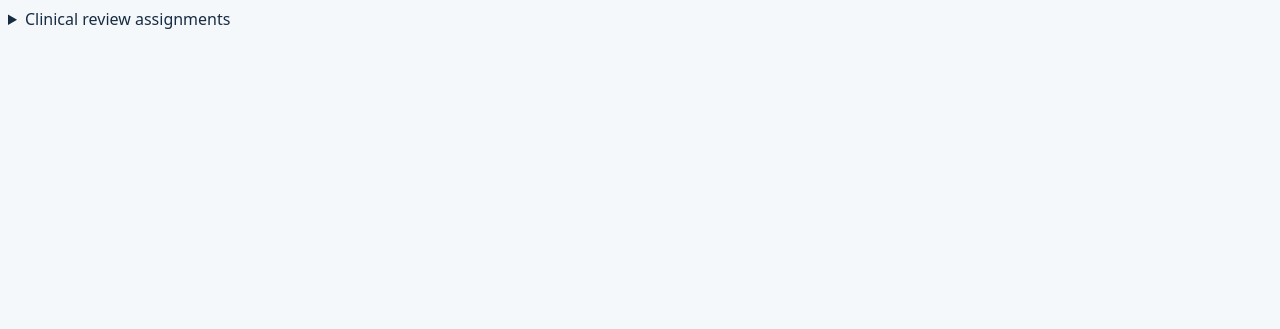
Test case: assigns a doctor and displays the recommendation state
Click the heading "Clinical review assignments". click: x=128, y=19
box: [25, 8, 230, 30]
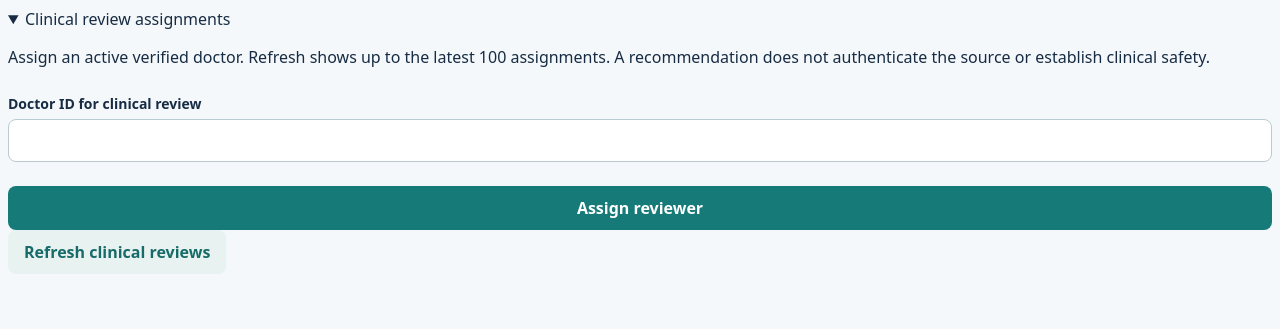
Type "00000000-0000-4000-8000-000000000001" into the field labelled "Doctor ID for clinical review". click: x=640, y=140
box: [8, 119, 1272, 162]
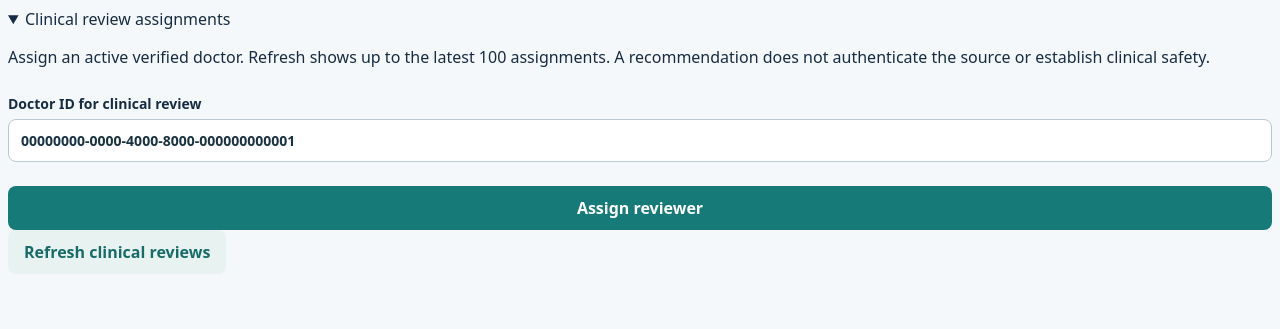
Click the button "Assign reviewer". click: x=640, y=208
box: [8, 186, 1272, 230]
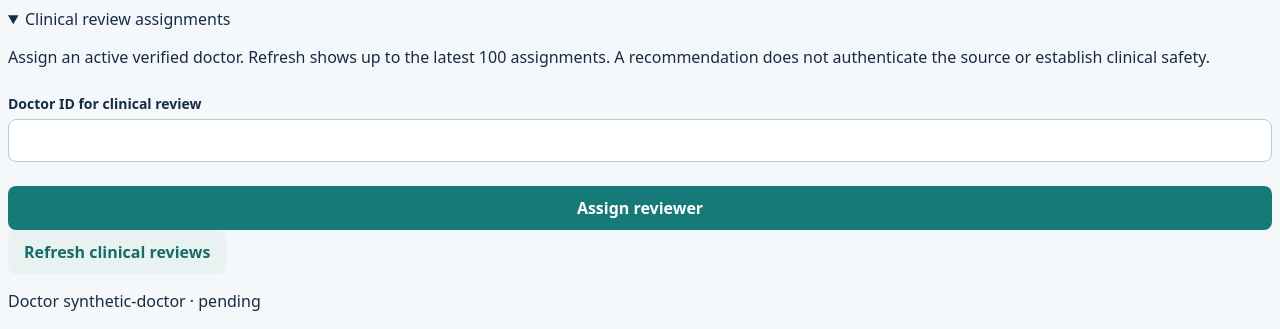
Now the text "Doctor synthetic-doctor · pending" is shown, box [8, 290, 261, 312]
